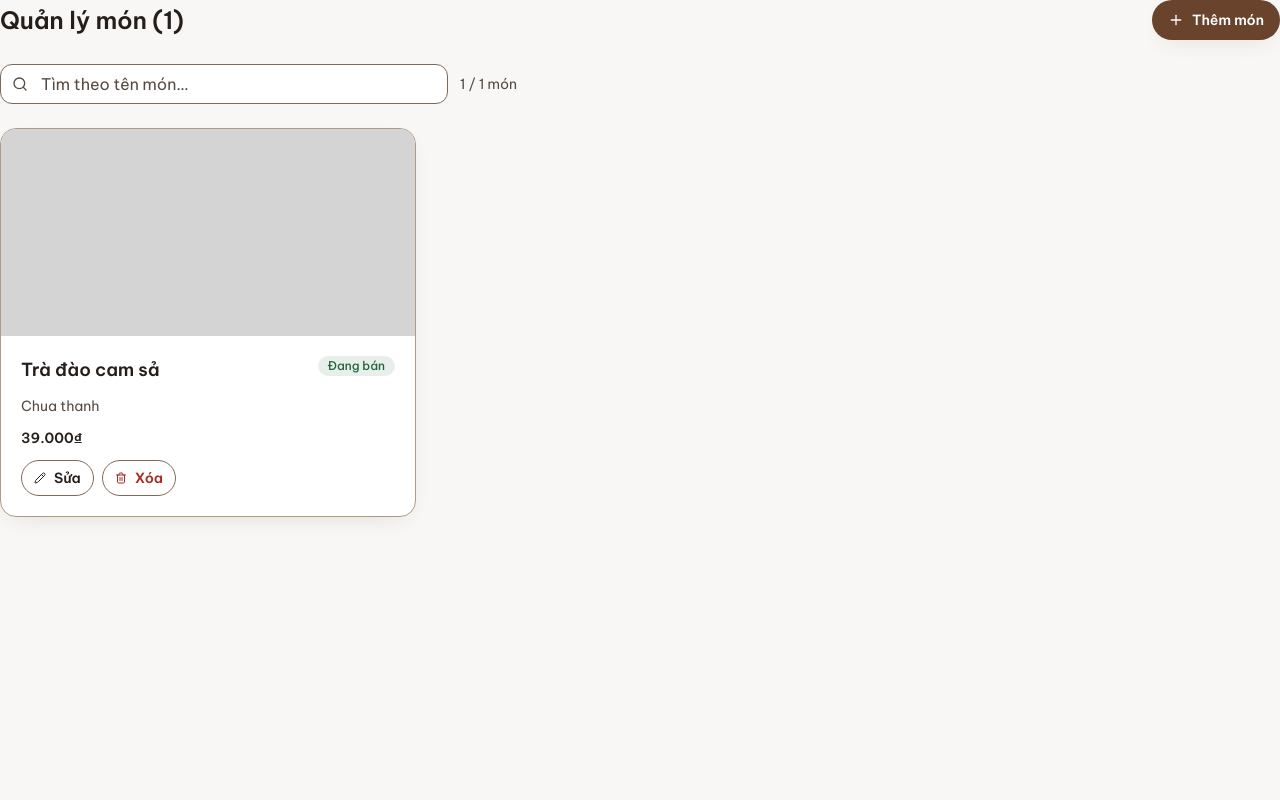
AI tag suggestions in the product form › labels rule-based suggestions and handles an empty answer
Click the button "Sửa": [57, 478] box [21,460,94,496]
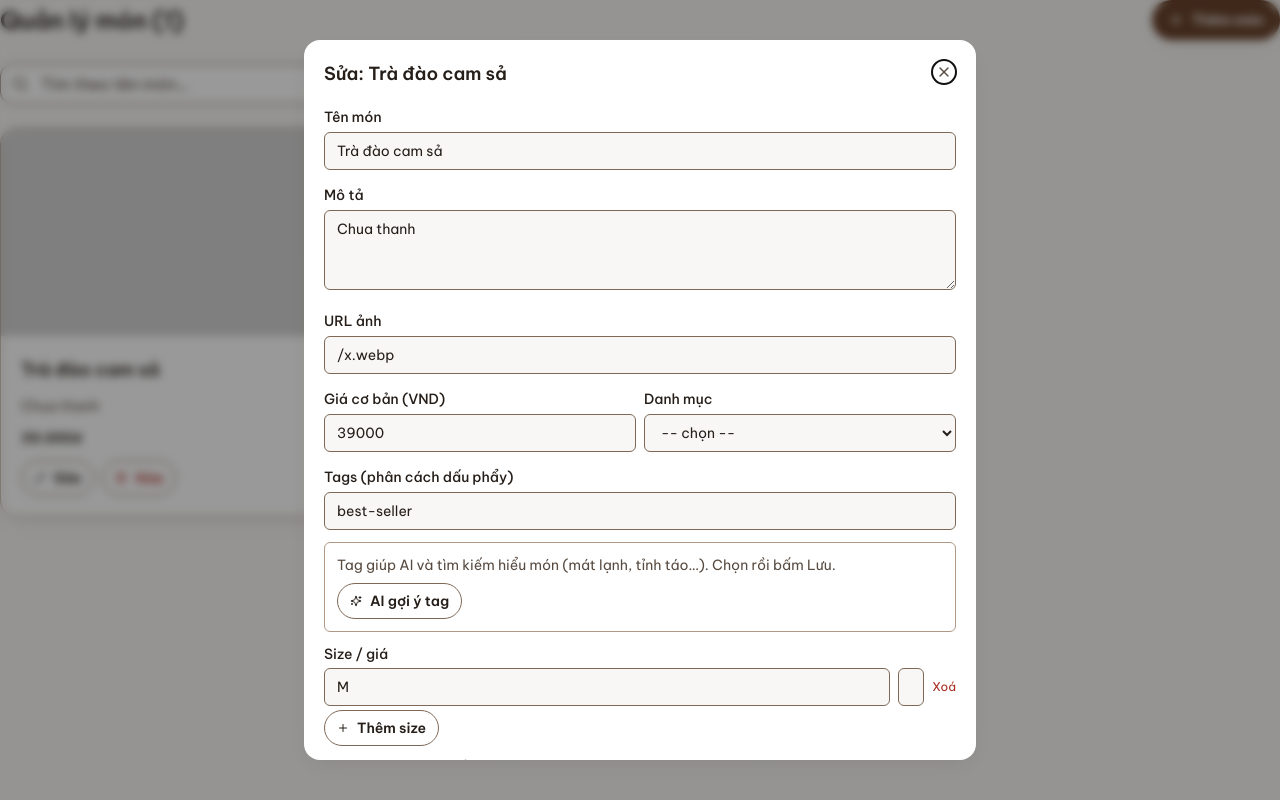
Click the button "AI gợi ý tag": [400, 601] box [337,583,462,619]
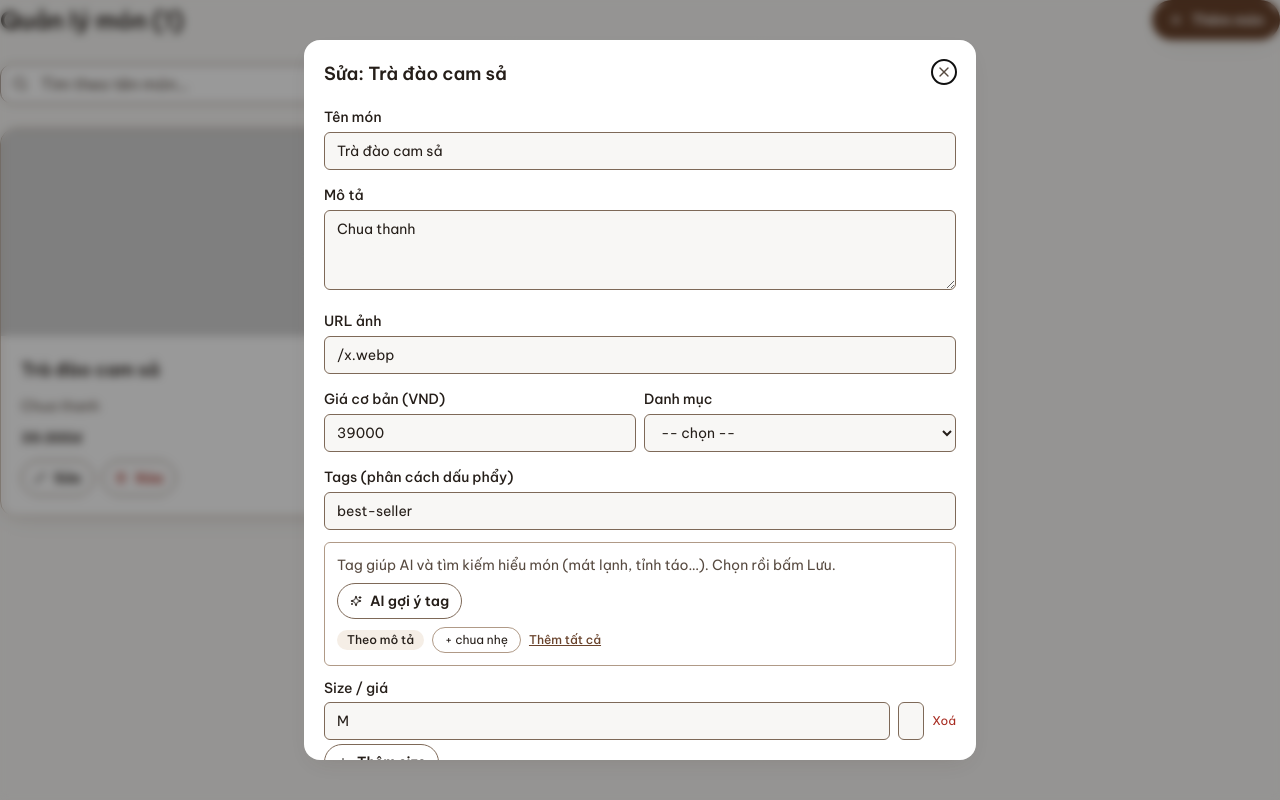
Expected: the text "Theo mô tả" is shown, [337,630,424,650]
Click the button "Thêm tất cả": [565, 640] box [529,632,601,648]
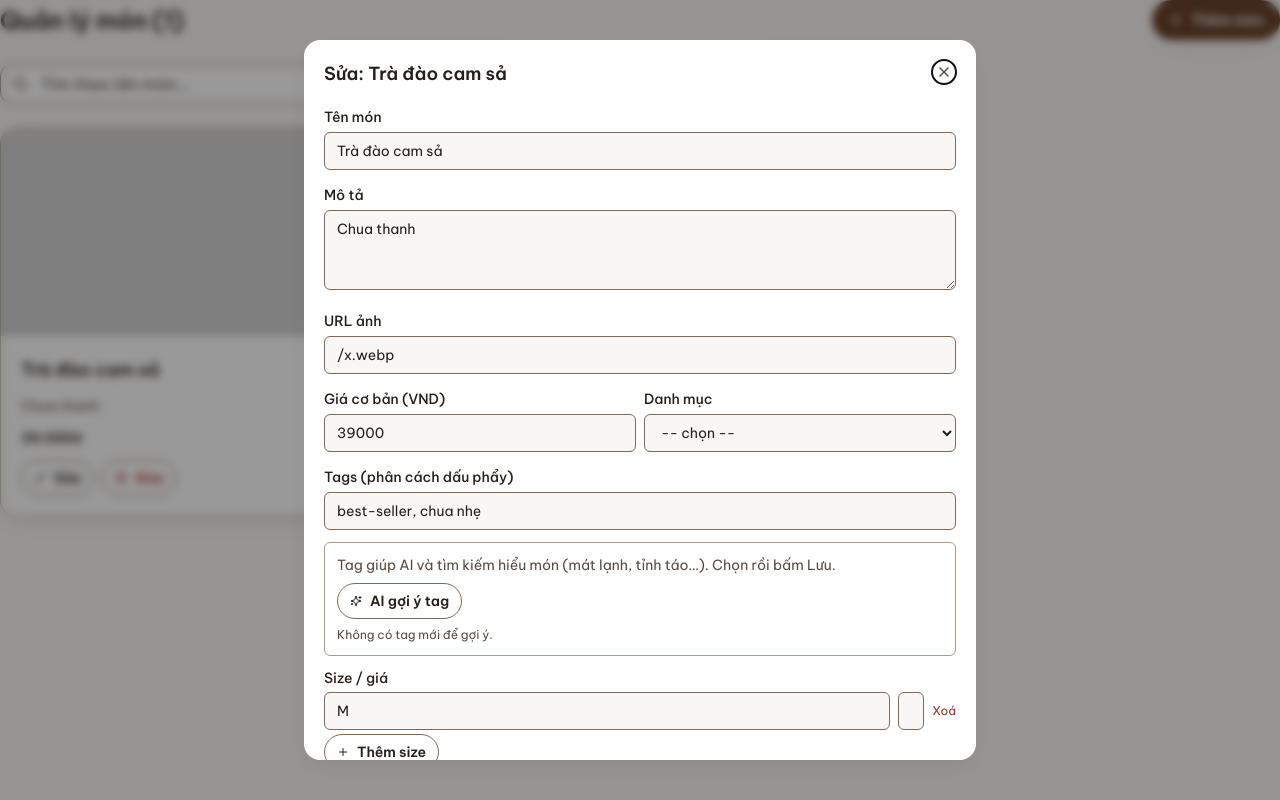
Expected: the text "Không có tag mới để gợi ý." is shown, [337,627,493,642]
